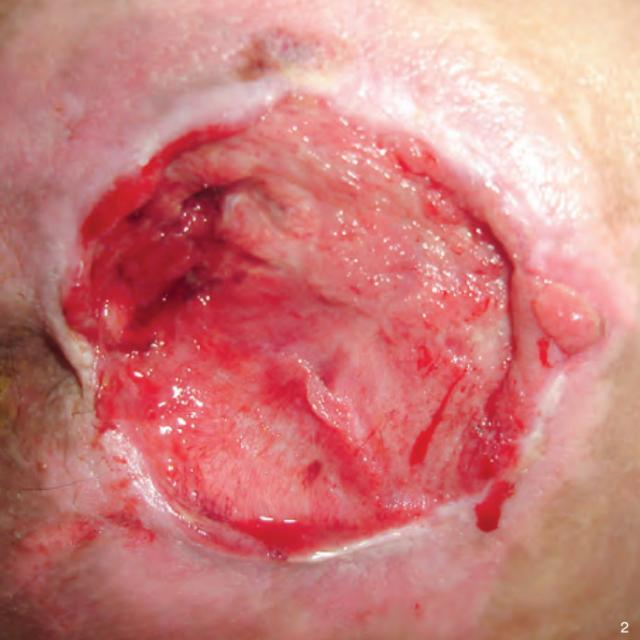stage-3: (64, 94, 602, 556)
